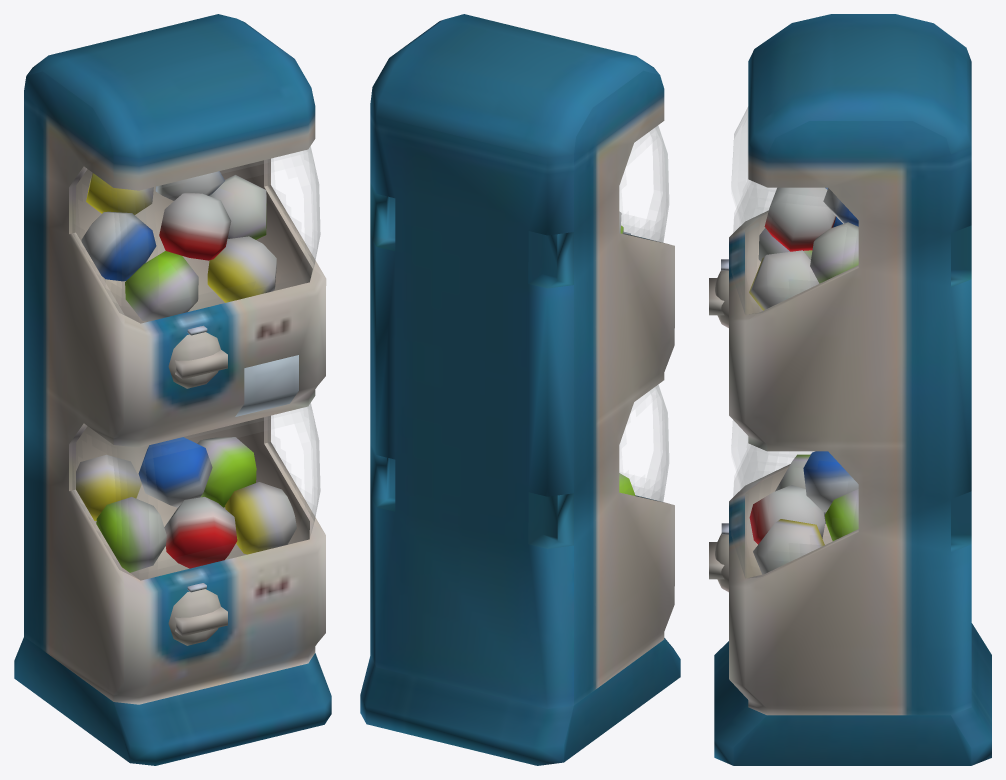
3 views of the same model, side by side, from view 1: azimuth 30°, elevation 25°; view 2: azimuth 150°, elevation 25°; view 3: azimuth 270°, elevation 25° (orthographic). The views are drawn at different scales.
Bounding box in the file's own units: 5.22 × 15.86 × 6.17.
Materials: 3 (3 with a texture image).
